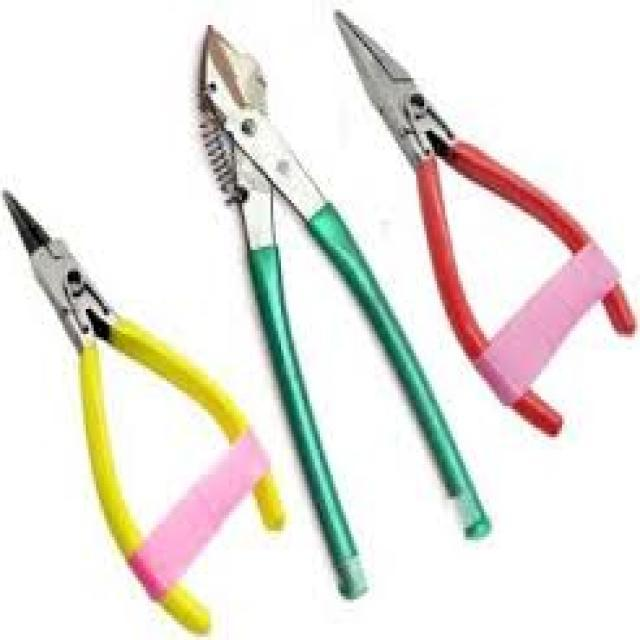pliers: (187, 14, 498, 607), (323, 0, 640, 439), (0, 176, 287, 638)
